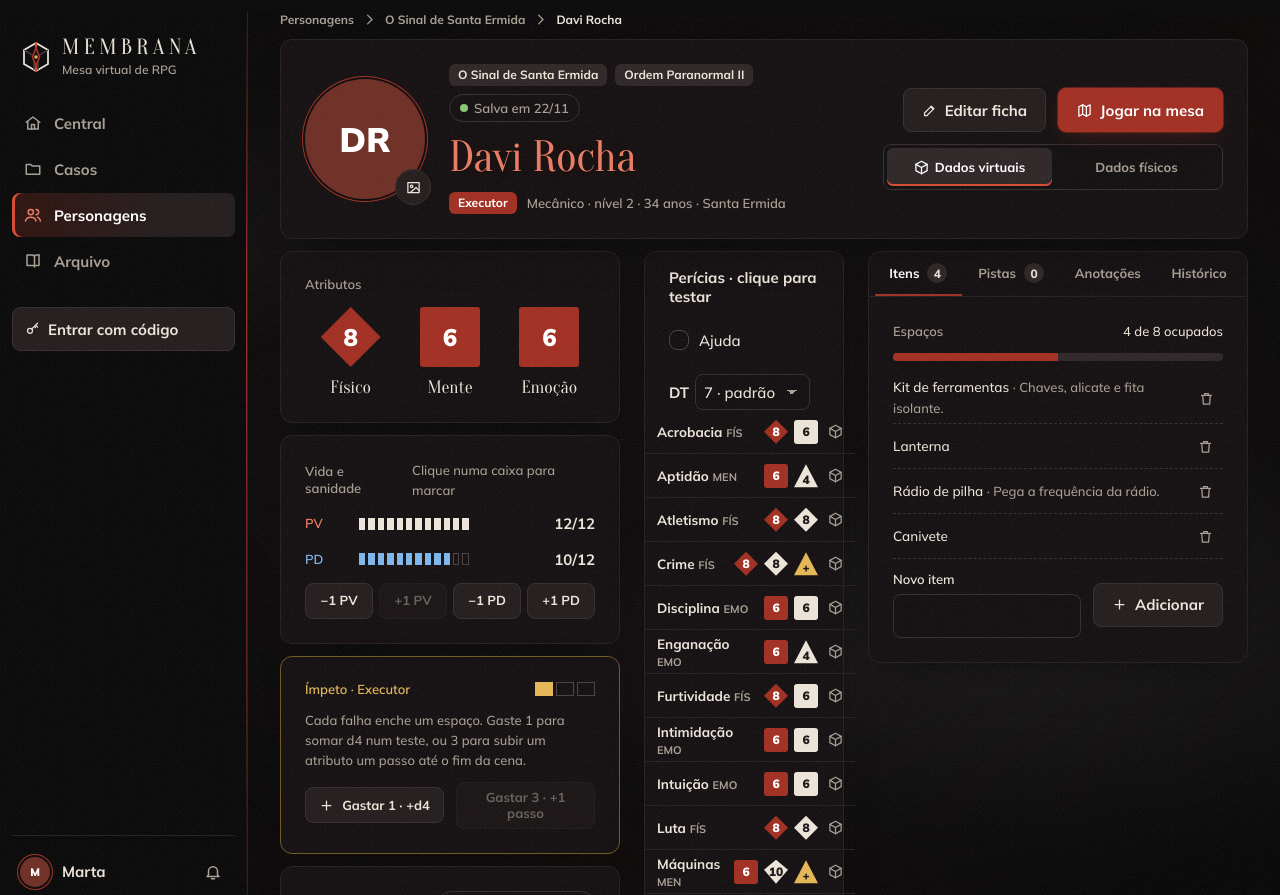
Test: Ficha: topo, atributos, PV/PD, Ímpeto e Gambiarra (#45) › mudar PV salva no servidor e mostra "Salva agora"
expect the heading "Davi Rocha" is shown: met, box [449,132,636,182]
expect the text "Salva agora" is not shown: met
Click the button with aria-label "Perder 1 PV": (339,601) [305,583,373,619]
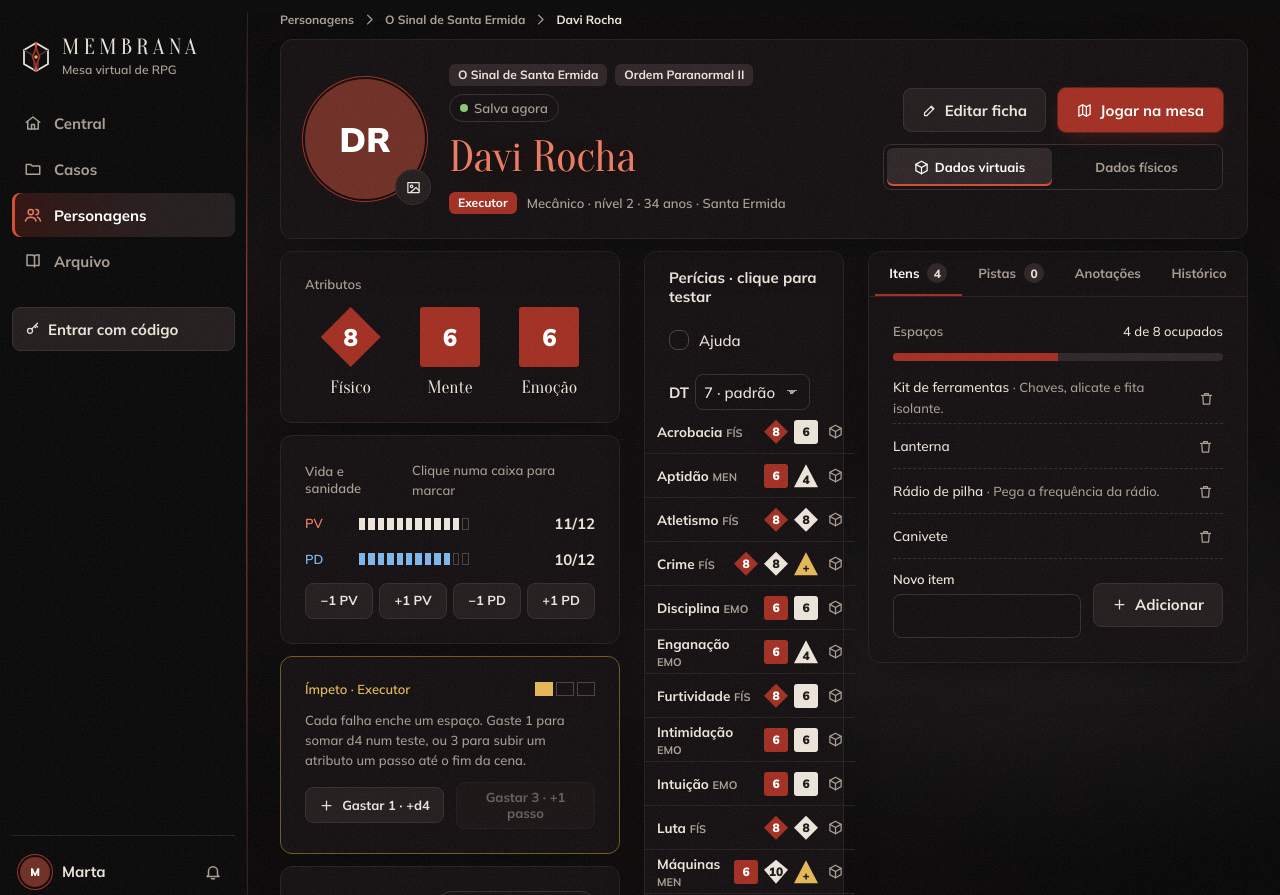
expect the element named "PV: 11 de 12" is shown: met, box [359,518,469,530]
expect the text "Salva agora" is shown: met, box [449,94,559,122]
